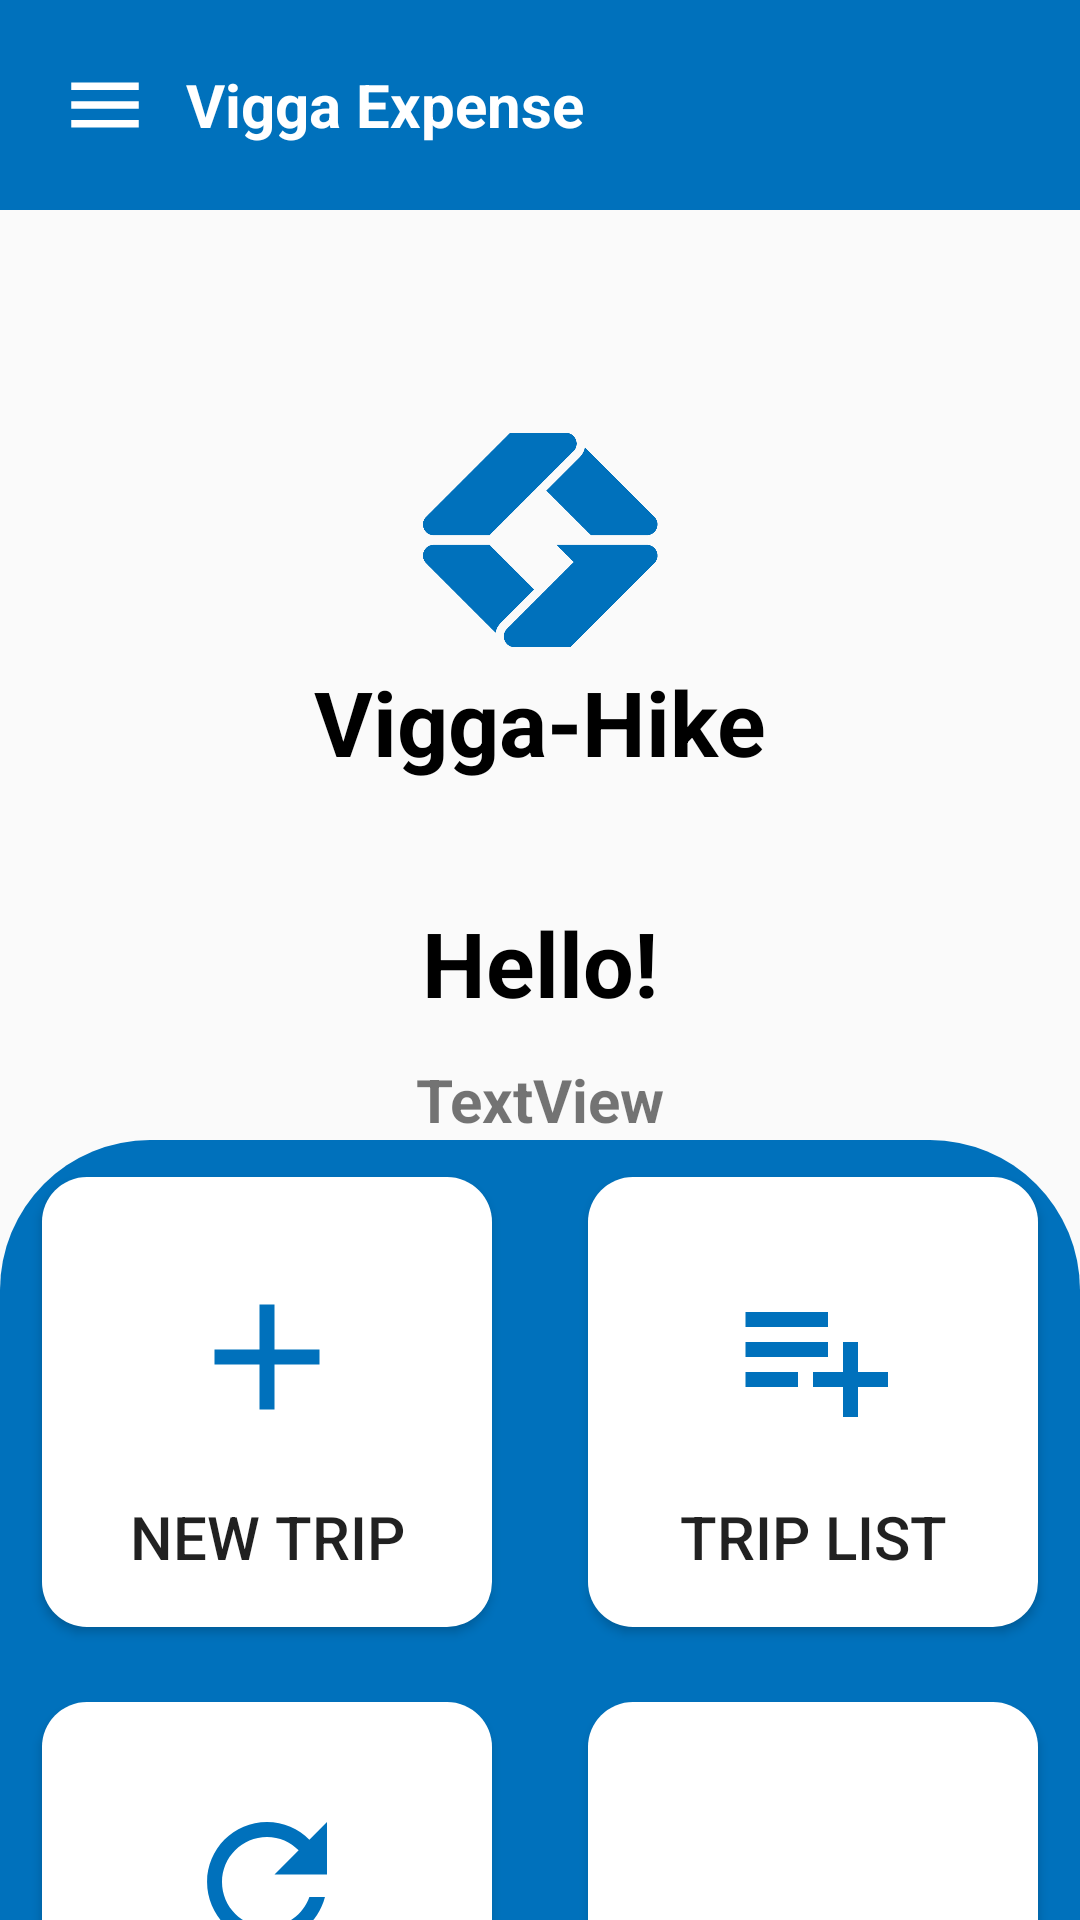

Icons on this 1080x1920 Android screen, each with the point to tap as point (x, y):
menu: point (105, 105)
